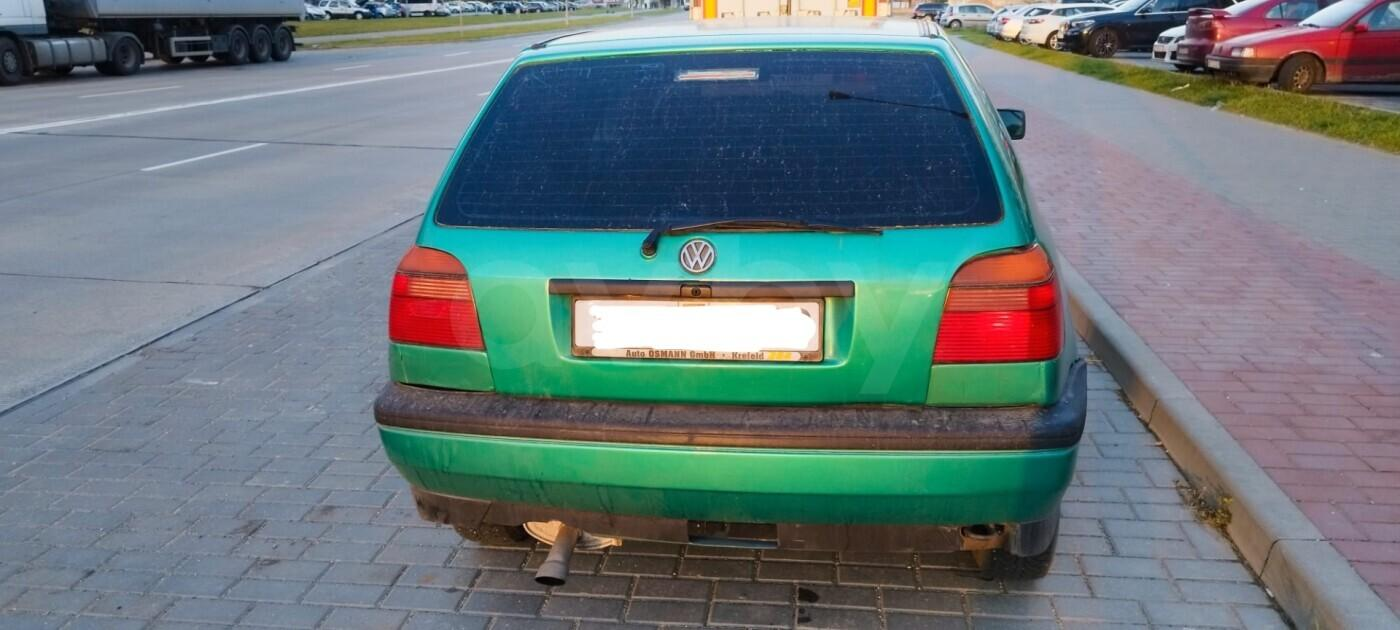Golf_1991-2000: (365, 9, 1102, 598)
